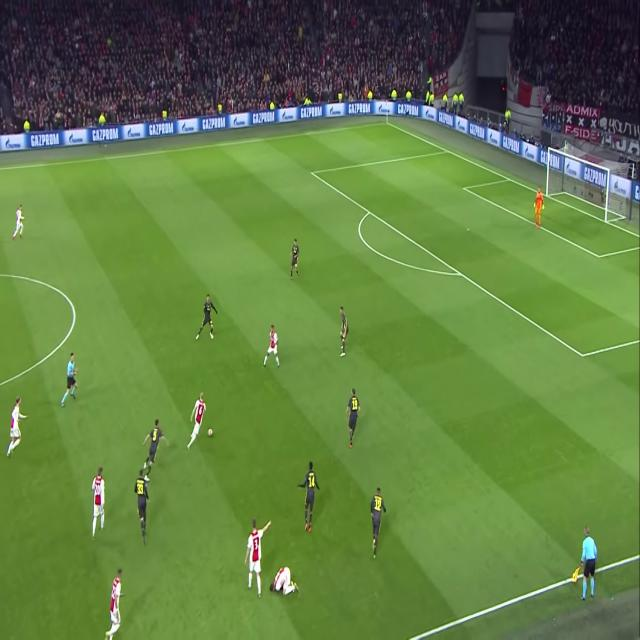Ball: (208, 422, 214, 440)
GoalKeeper: (534, 189, 546, 228)
TEAM 1: (133, 471, 153, 557), (300, 462, 319, 537), (369, 486, 387, 556), (146, 409, 162, 480), (195, 294, 218, 342), (347, 389, 361, 449), (338, 305, 349, 356), (288, 239, 301, 280)
TEAM 2: (244, 519, 270, 597), (7, 397, 28, 459), (188, 381, 205, 454), (106, 569, 123, 639), (92, 466, 106, 536), (264, 324, 281, 370), (272, 567, 298, 597), (13, 207, 25, 241)
